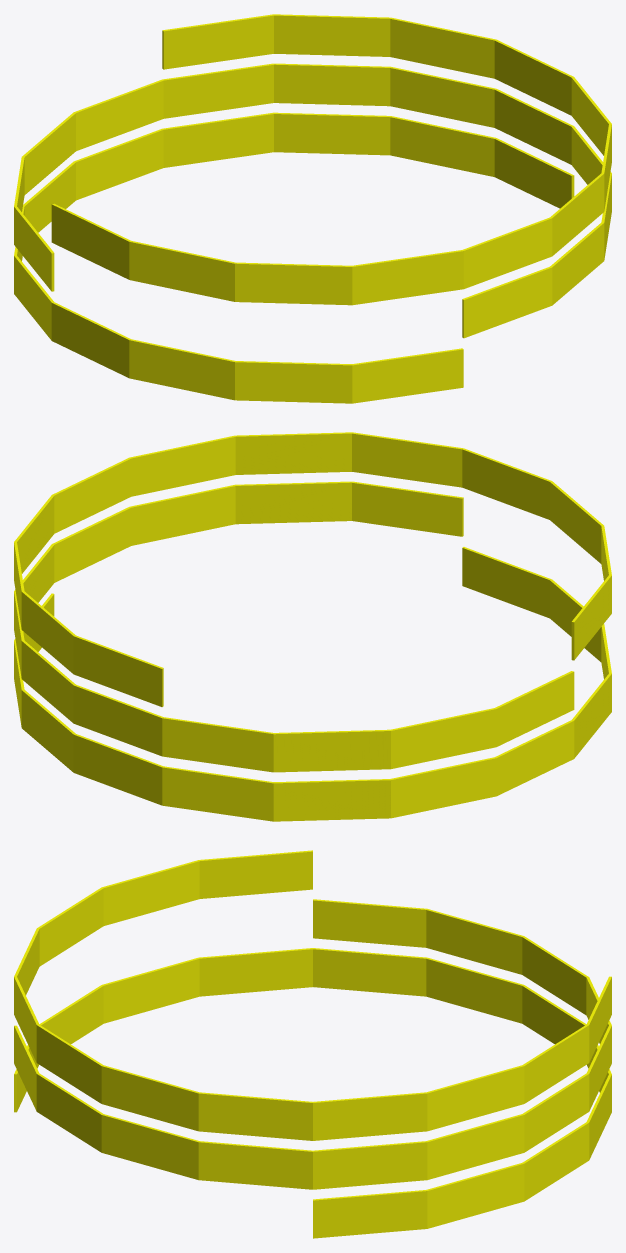
Rendered from Alertas_Ayudas.fbx.
The picture shows the model from 3 angles, top to bottom: view 1: azimuth 30°, elevation 25°; view 2: azimuth 150°, elevation 25°; view 3: azimuth 270°, elevation 25°; orthographic projection.
Parts seen in each view (by area): view 1: Area_Mision_03, Area_Mision_01, Area_Mision_02; view 2: Area_Mision_02, Area_Mision_03, Area_Mision_01; view 3: Area_Mision_03, Area_Mision_02, Area_Mision_01.
Part boxes in pixels (left/top/right/bottom): Area_Mision_03: left=51, top=14, right=611, bottom=305; Area_Mision_01: left=14, top=112, right=574, bottom=403; Area_Mision_02: left=14, top=63, right=611, bottom=338; Area_Mision_02: left=14, top=481, right=574, bottom=772; Area_Mision_03: left=14, top=432, right=611, bottom=706; Area_Mision_01: left=14, top=547, right=611, bottom=821; Area_Mision_03: left=14, top=850, right=611, bottom=1140; Area_Mision_02: left=14, top=899, right=611, bottom=1189; Area_Mision_01: left=14, top=948, right=611, bottom=1238.
Bounding box in the file's own units: 200 × 50 × 200.
